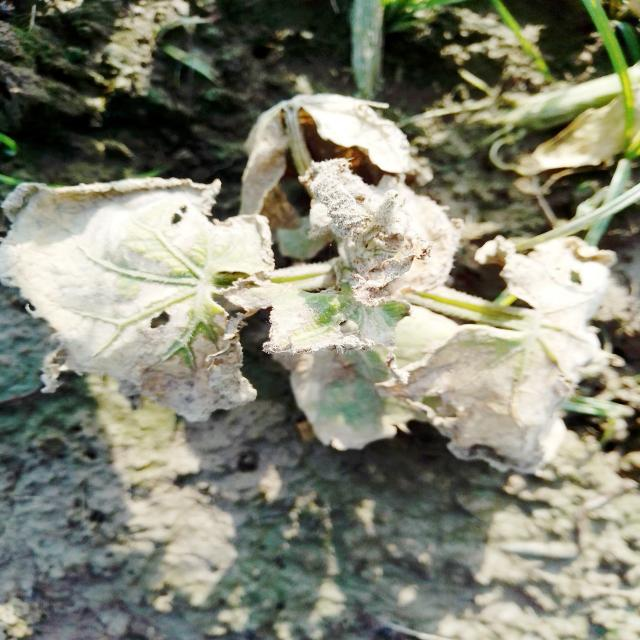Bacterial-Wilt: (376, 232, 623, 471), (233, 93, 420, 231)
